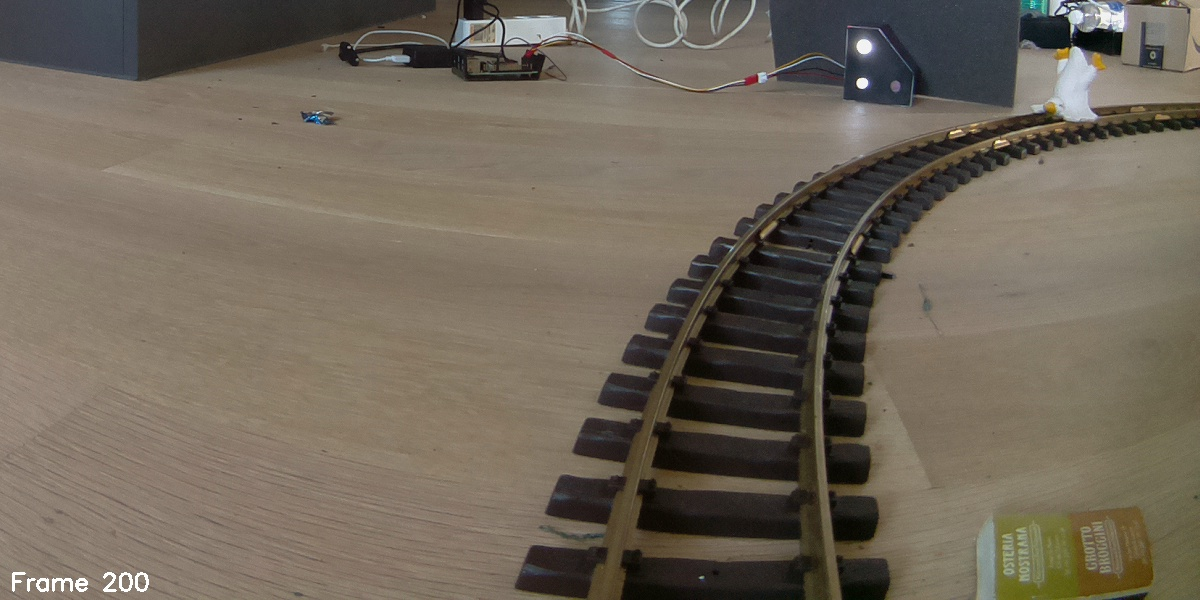Ente: (1030, 44, 1110, 126)
Fahrt: (842, 17, 914, 111)
